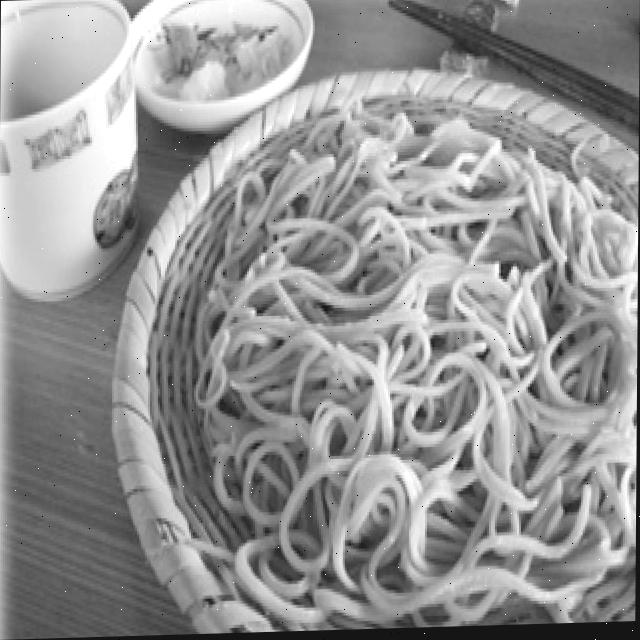面条主食: (104, 39, 640, 637)
